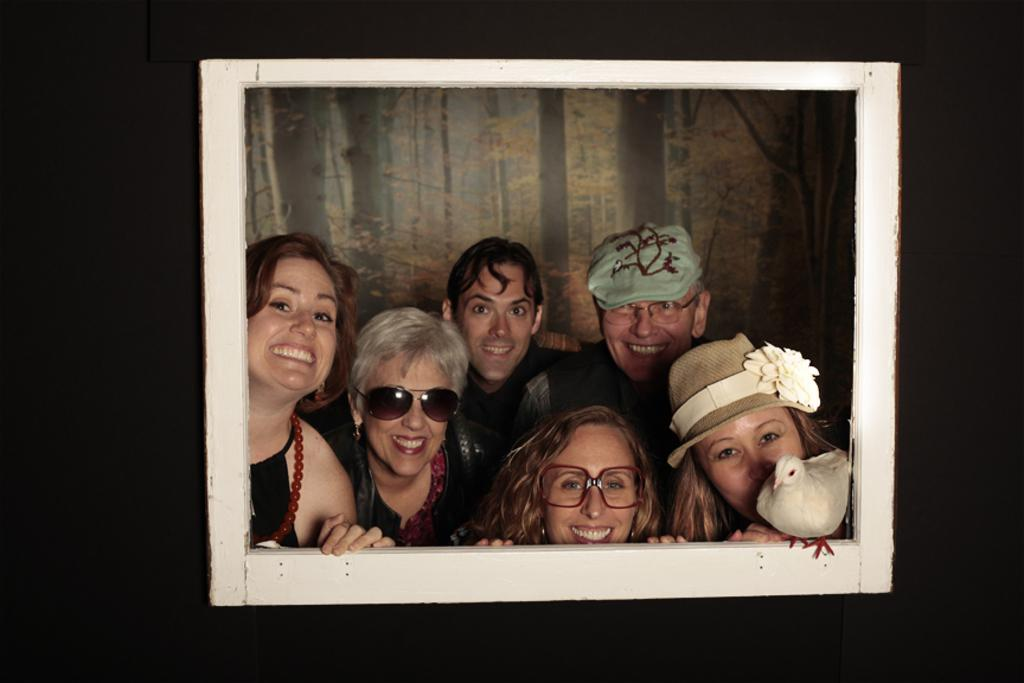Hat: (666, 333, 820, 469)
